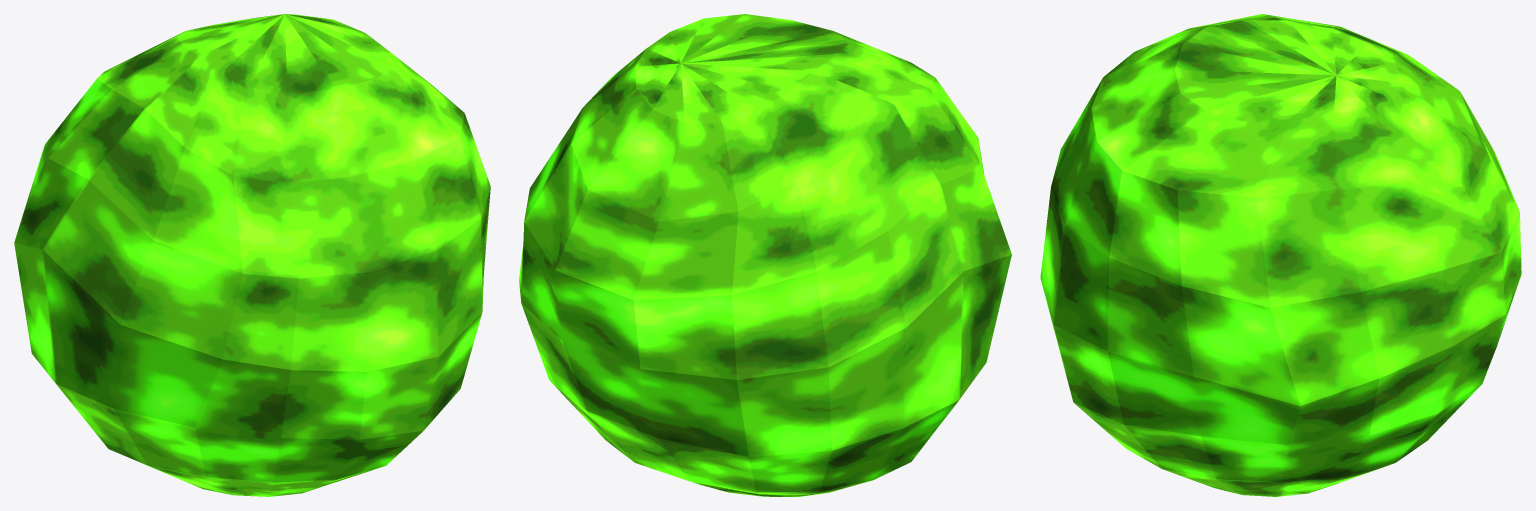
The model's file is projectile.gltf.
The picture shows the model from 3 angles, left to right: view 1: azimuth 30°, elevation 25°; view 2: azimuth 150°, elevation 25°; view 3: azimuth 270°, elevation 25°; orthographic projection.
Parts seen in each view (by area): view 1: 球; view 2: 球; view 3: 球.
Boxes of the visible parts, left/top/right/bottom form: 球: left=14, top=14, right=490, bottom=496; 球: left=519, top=14, right=1011, bottom=496; 球: left=1040, top=14, right=1521, bottom=496.
Bounding box in the file's own units: 0.9817 × 0.9737 × 0.9912.
